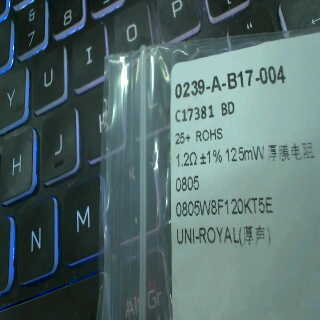1.2R: (171, 147, 200, 195)
